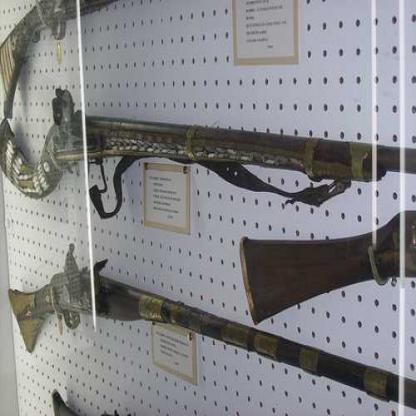rifle: (6, 243, 415, 415), (0, 97, 414, 213)
